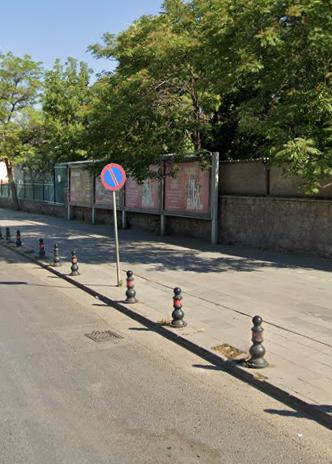stop: (99, 162, 129, 193)
